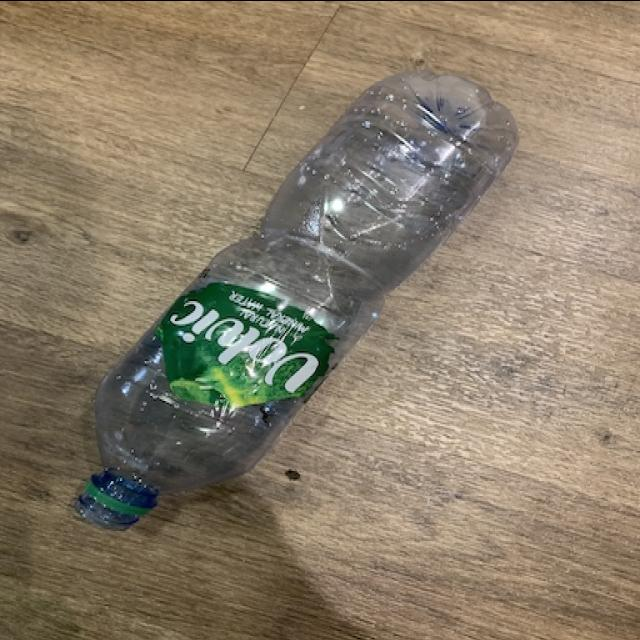litter: (74, 66, 525, 538)
